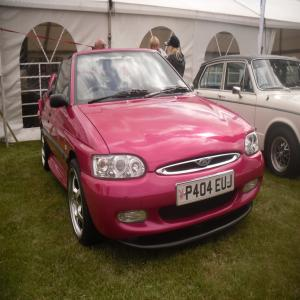Vehicle-registration-plate: (176, 172, 235, 209)
